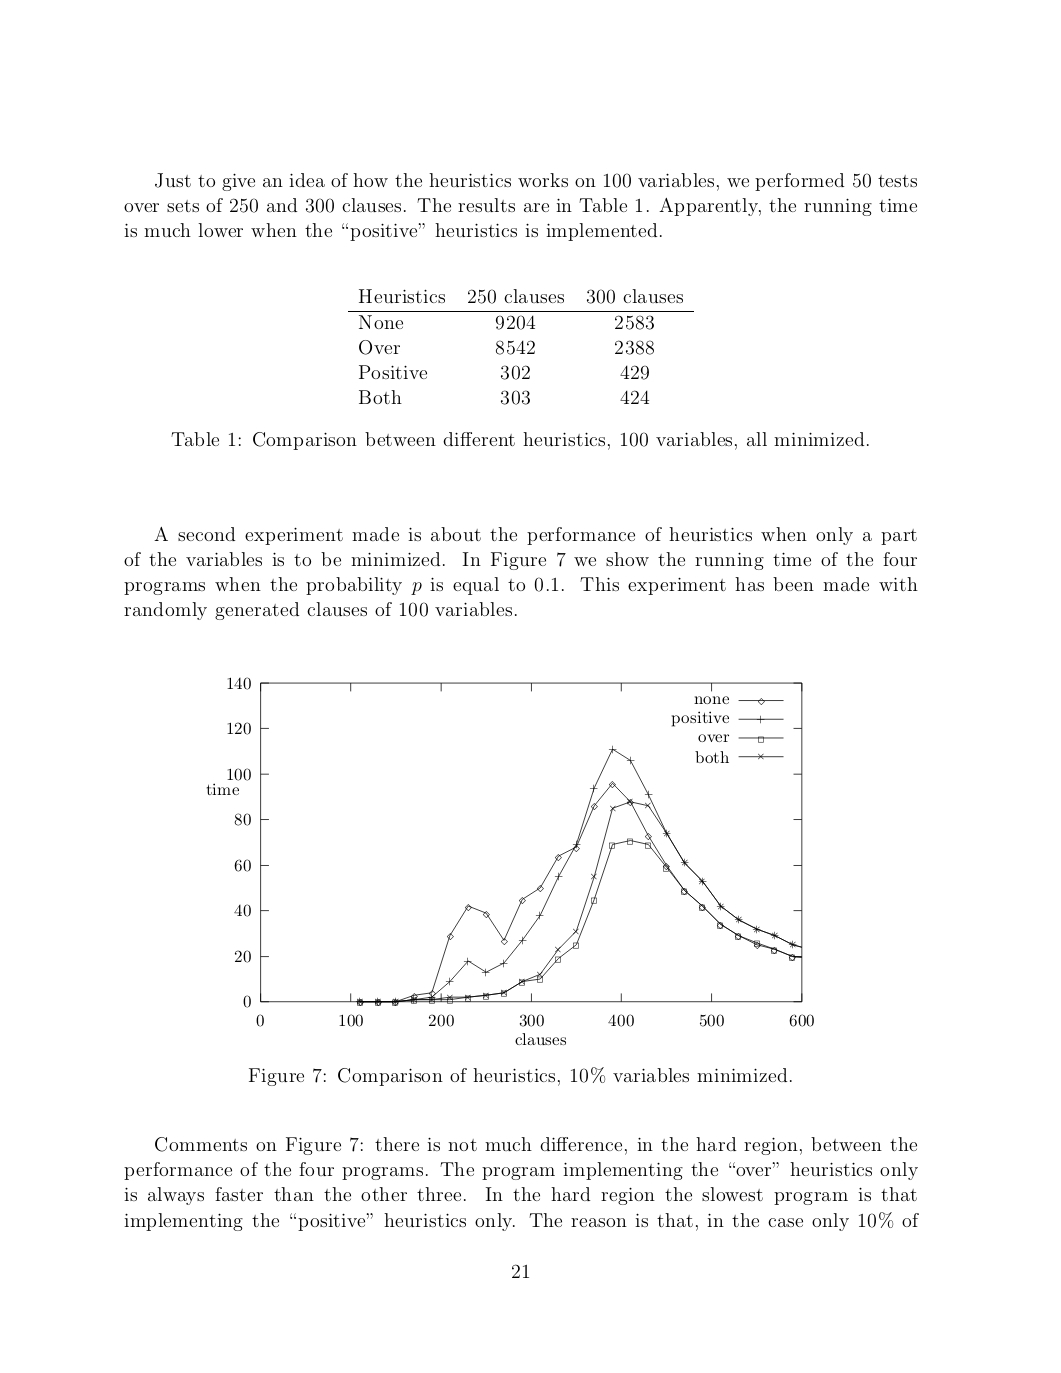Table: (348, 289, 693, 405)
figure: (206, 676, 812, 1045)
